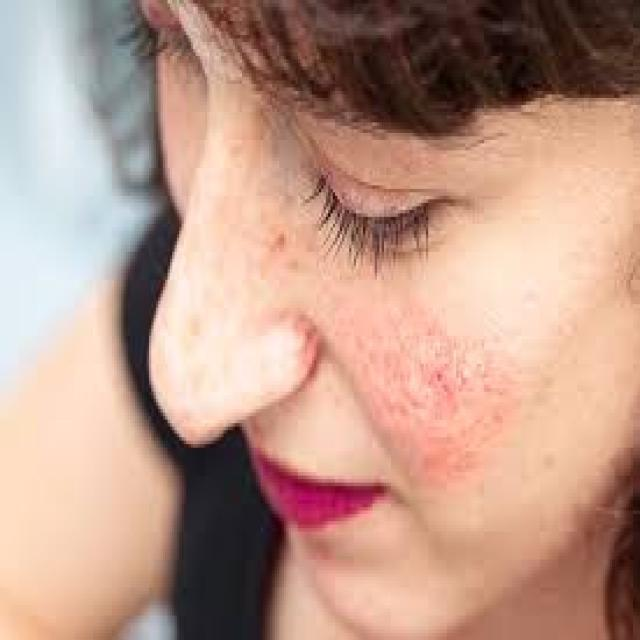Rosacea: (270, 226, 505, 480)
